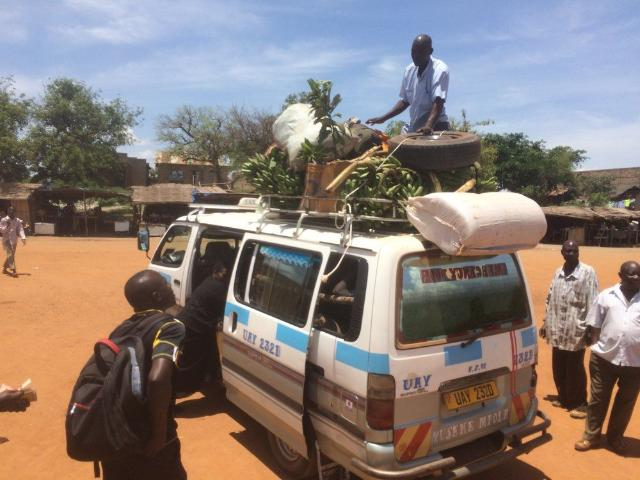van: (179, 204, 554, 478)
